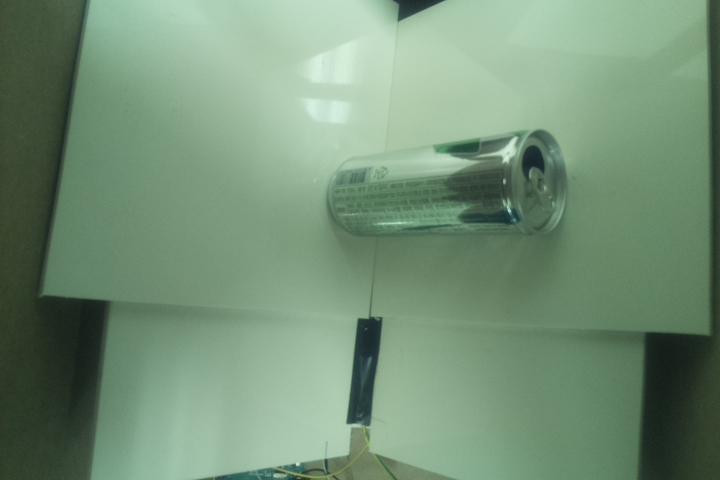can: (322, 118, 568, 243)
